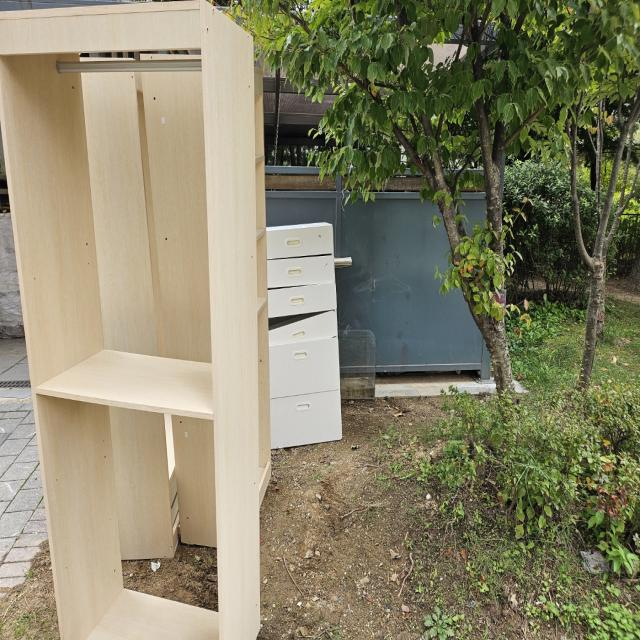Large Waste Items: (0, 2, 277, 640), (264, 210, 338, 476)
